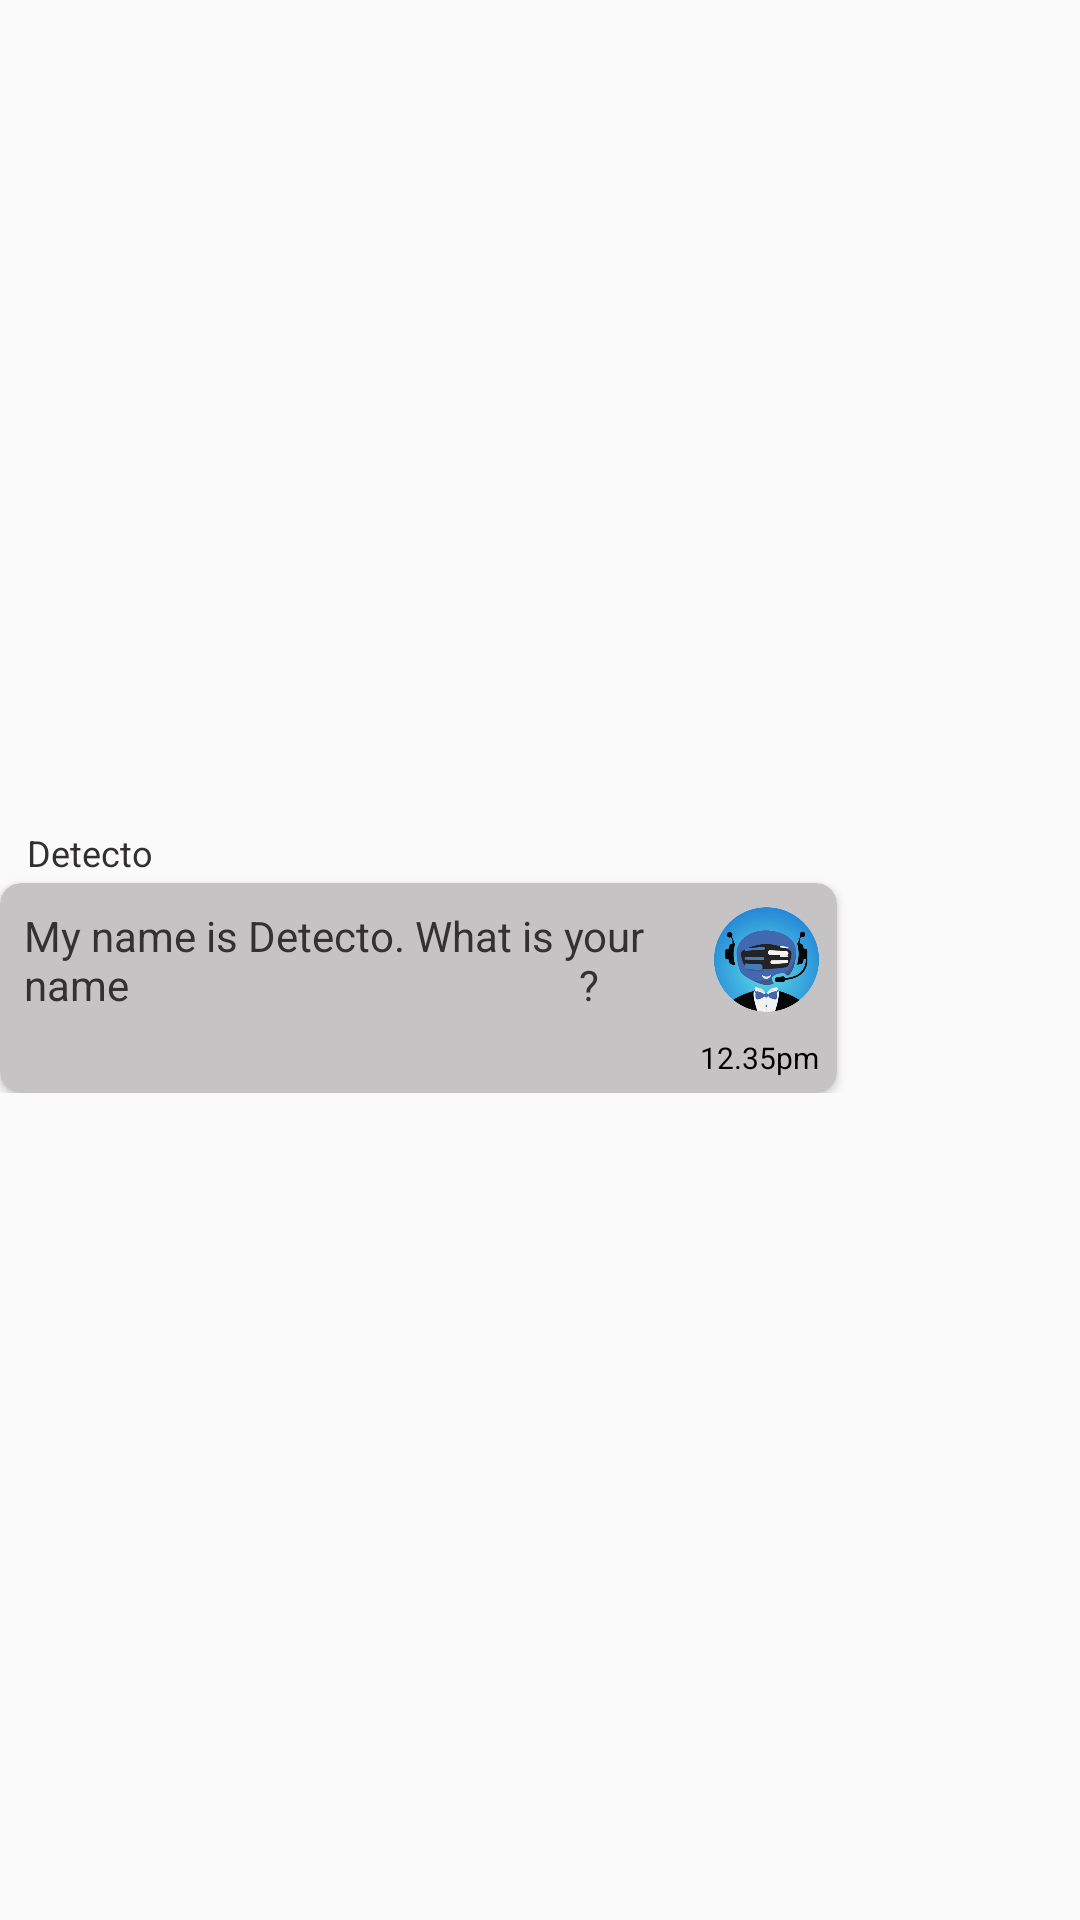

Screen size 1080×1920. Icon name, then its box in pixels as [x1, y1, x2, y2]:
bot: [714, 907, 819, 1012]
